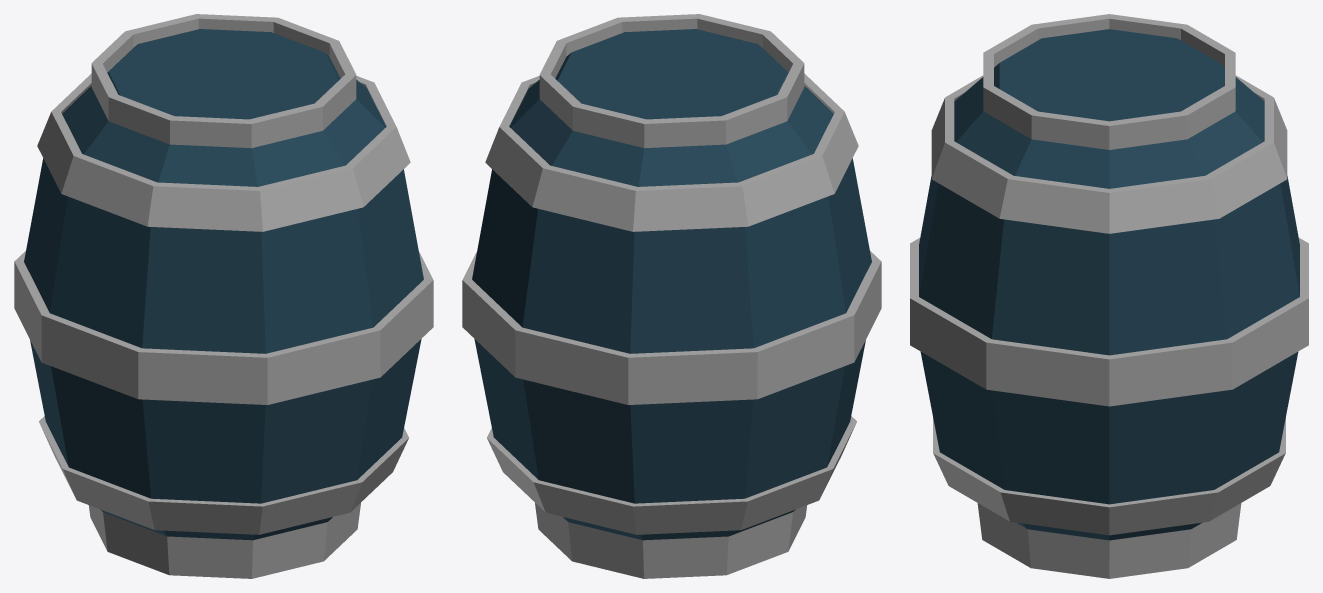
File: barrel_b002.glb
3 renders of one model, left to right at view 1: azimuth 30°, elevation 25°; view 2: azimuth 150°, elevation 25°; view 3: azimuth 270°, elevation 25°, orthographic.
Visible parts, largest first — view 1: barrel_b002; view 2: barrel_b002; view 3: barrel_b002.
Boxes of the visible parts, <box> form: barrel_b002: <box>14,14,433,578</box>; barrel_b002: <box>462,14,881,578</box>; barrel_b002: <box>910,14,1308,578</box>.
Bounding box in the file's own units: 0.5917 × 0.7041 × 0.5627.
Materials: 1 (1 with a texture image).
